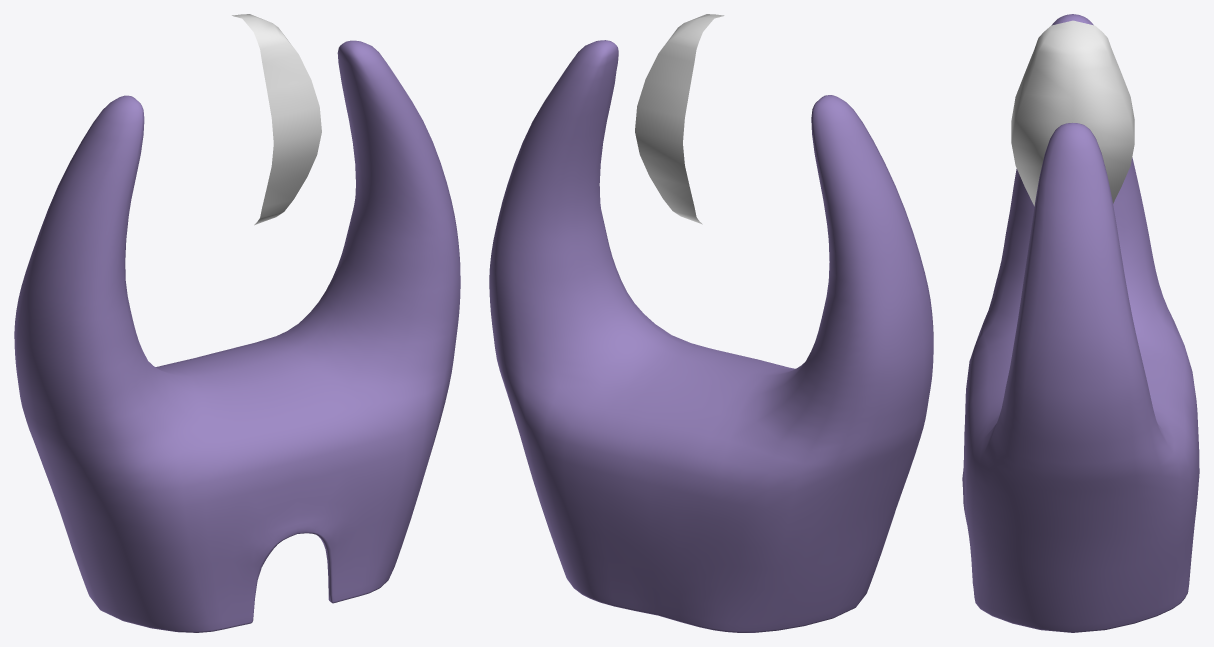
The model's file is EvaEdificio.glb.
3 renders of one model, left to right at view 1: azimuth 30°, elevation 25°; view 2: azimuth 150°, elevation 25°; view 3: azimuth 270°, elevation 25°, orthographic. The views are drawn at different scales.
Visible parts, largest first — view 1: Decentraland, Parte central; view 2: Decentraland, Parte central; view 3: Decentraland, Parte central.
Boxes of the visible parts, box(x1,y1,x2,y2) form: Decentraland: box(14, 40, 460, 632); Parte central: box(232, 14, 321, 225); Decentraland: box(489, 40, 933, 632); Parte central: box(635, 14, 724, 224); Decentraland: box(962, 14, 1199, 632); Parte central: box(1011, 20, 1134, 206).
Size of what is drawn, in the model's own units: 14.04 by 17.76 by 6.99.
